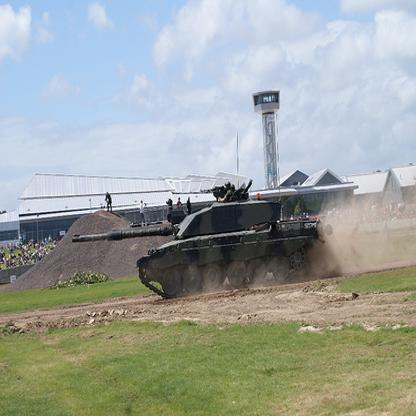Tank: (65, 191, 345, 296)
